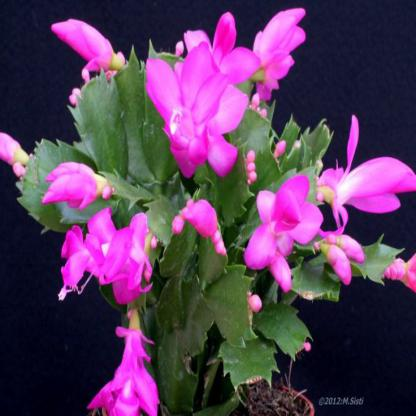Aglonema: (172, 219, 317, 392)
